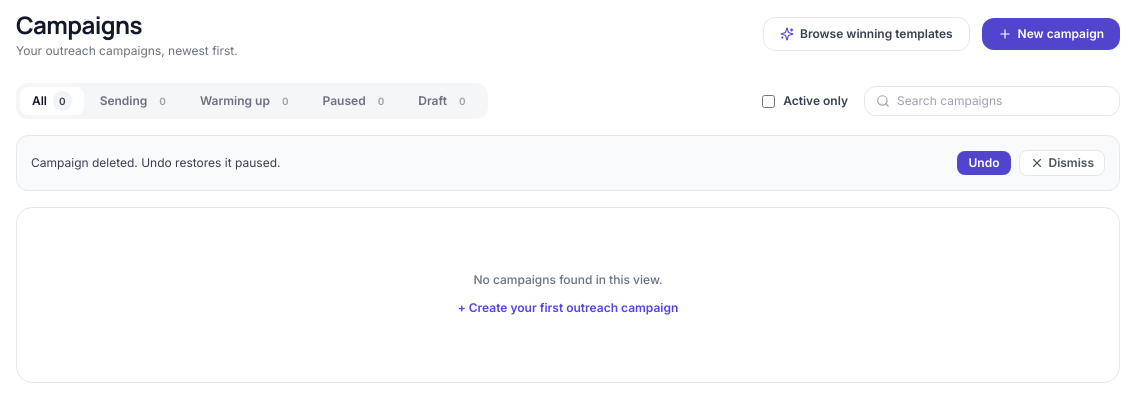
it: Campaign deletion recovery › preserves a restoration reference after a network failure and retries only restore
Later steps or results of the test are not shown.
Click the button "Undo" at (984, 163), box x1=956 y1=151 x2=1012 y2=175
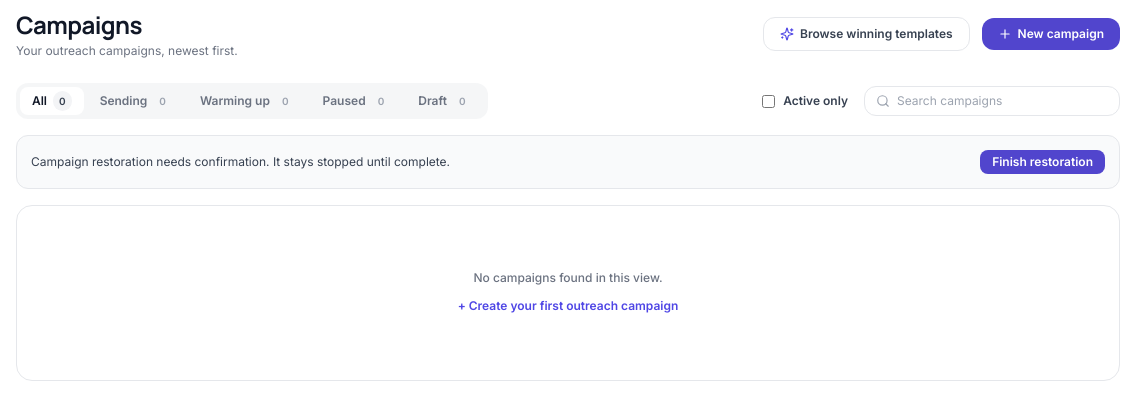
Check: the button "Finish restoration" is shown, box x1=980 y1=150 x2=1105 y2=174
Check: the text "restoration needs confirmation" is shown, box x1=31 y1=154 x2=450 y2=169
